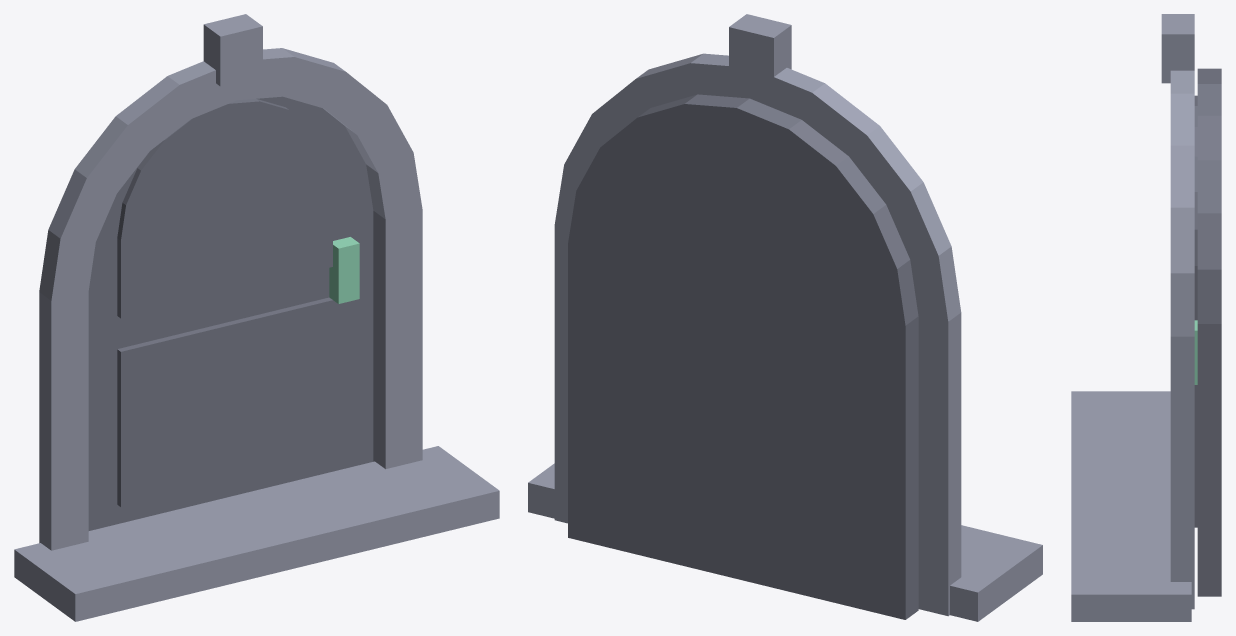
The model's file is door-arched.glb.
3 renders of one model, left to right at view 1: azimuth 30°, elevation 25°; view 2: azimuth 150°, elevation 25°; view 3: azimuth 270°, elevation 25°, orthographic. The views are drawn at different scales.
Visible parts, largest first — view 1: door-arched; view 2: door-arched; view 3: door-arched.
Part boxes in pixels (left/top/right/bottom): door-arched: left=14, top=14, right=499, bottom=621; door-arched: left=528, top=14, right=1042, bottom=621; door-arched: left=1071, top=14, right=1221, bottom=621.
Size of the model in its own units: 0.8 by 0.91 by 0.25.
Materials: 1 (1 with a texture image).
